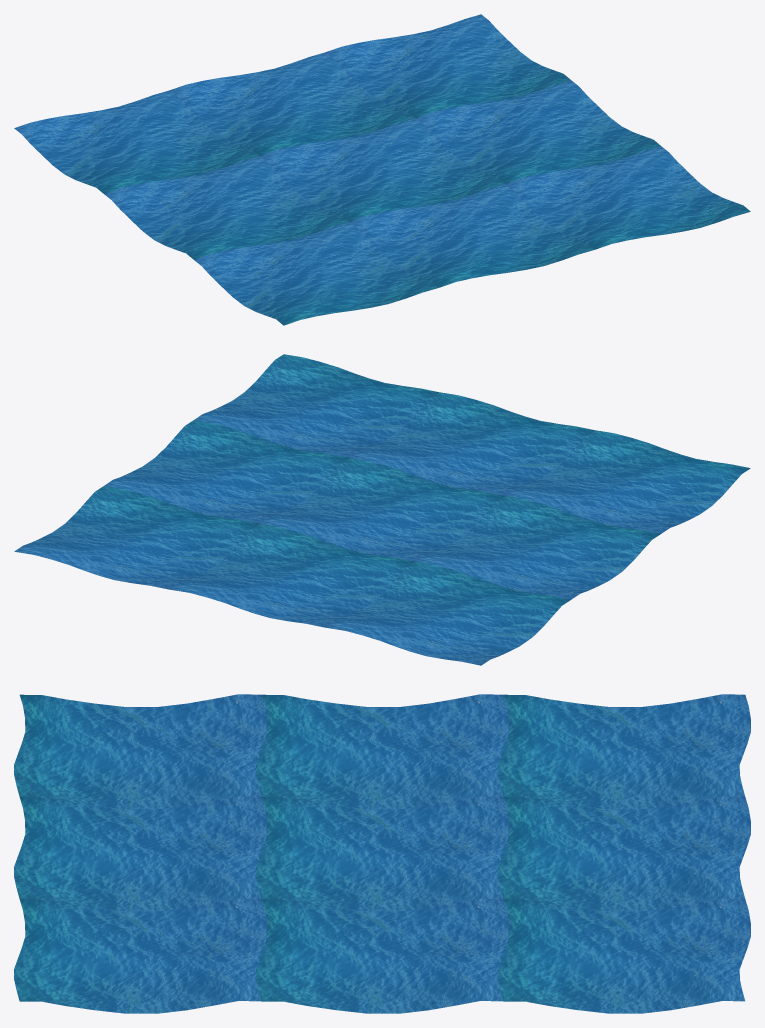
File: ocean_000091.obj
3 views of the same model, one above another, from view 1: azimuth 30°, elevation 25°; view 2: azimuth 150°, elevation 25°; view 3: azimuth 270°, elevation 25° (orthographic). The views are drawn at different scales.
Visible parts, largest first — view 1: Ocean_Plan.001; view 2: Ocean_Plan.001; view 3: Ocean_Plan.001.
Part boxes in pixels (left/top/right/bottom): Ocean_Plan.001: left=14, top=14, right=750, bottom=325; Ocean_Plan.001: left=14, top=354, right=750, bottom=665; Ocean_Plan.001: left=14, top=694, right=750, bottom=1013.
Bounding box in the file's own units: 109285 × 2425 × 110656.
1 material, 1 textured.
